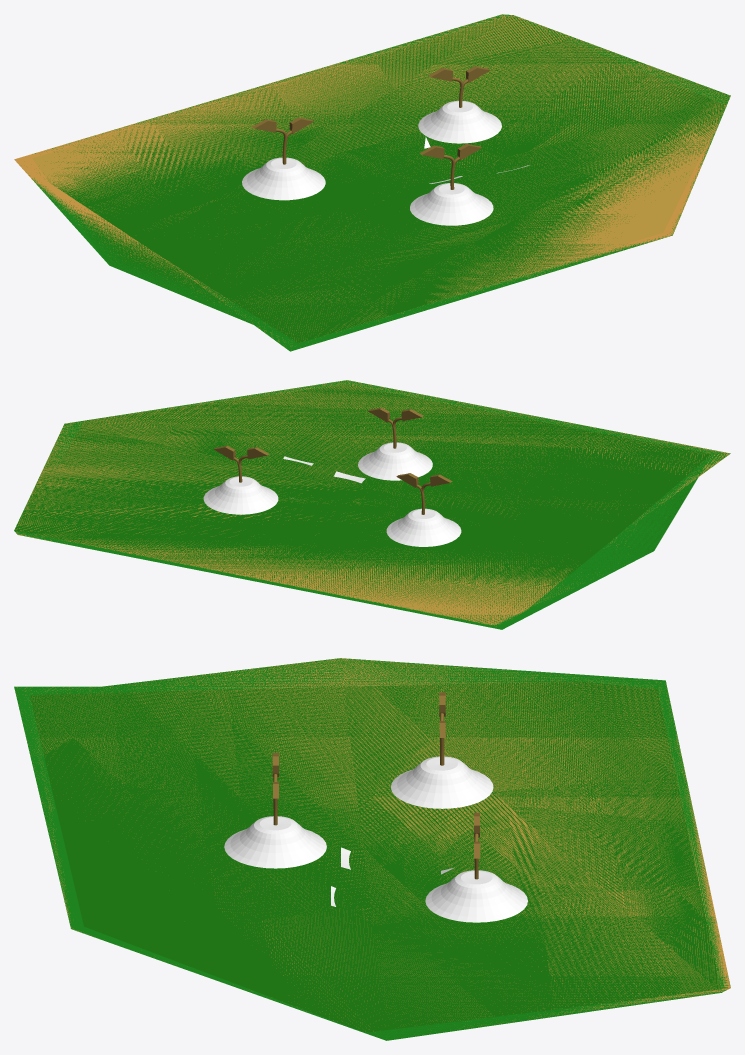
File: task122.glb
3 renders of one model, top to bottom at view 1: azimuth 30°, elevation 25°; view 2: azimuth 150°, elevation 25°; view 3: azimuth 270°, elevation 25°, orthographic. The views are drawn at different scales.
Visible parts, largest first — view 1: task122; view 2: task122; view 3: task122.
Boxes of the visible parts, x1,y1,x2,y2 form: task122: (14, 14, 730, 351); task122: (14, 380, 730, 629); task122: (14, 658, 730, 1040).
Bounding box in the file's own units: 2.2 × 0.2542 × 1.74.
